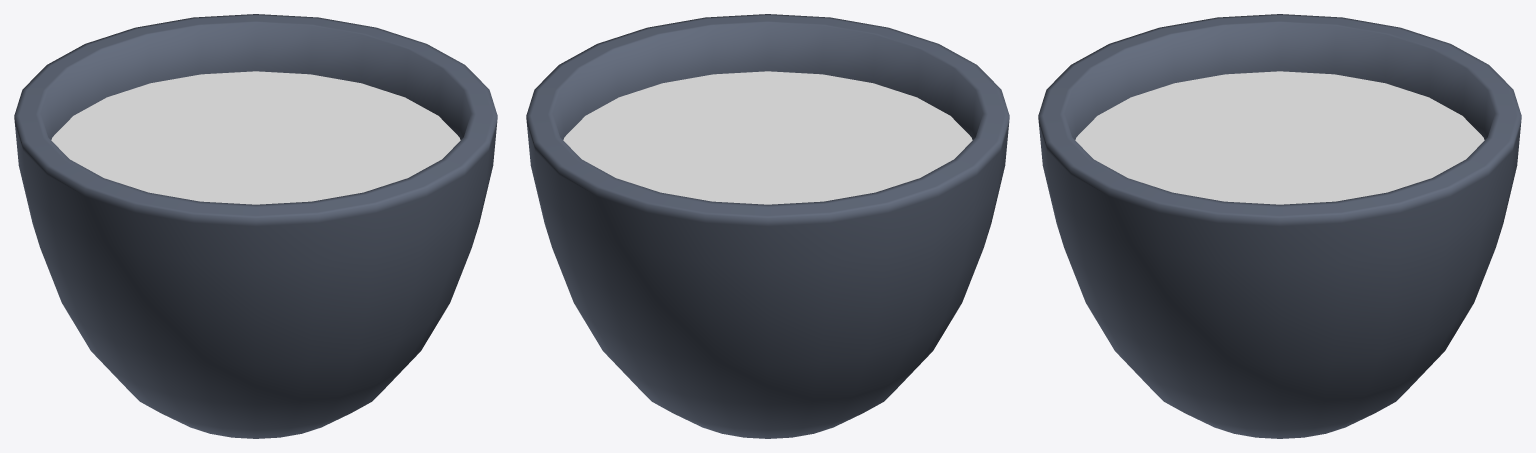
File: Gazan.fbx
The picture shows the model from 3 angles, left to right: view 1: azimuth 30°, elevation 25°; view 2: azimuth 150°, elevation 25°; view 3: azimuth 270°, elevation 25°; orthographic projection.
Visible parts, largest first — view 1: Sphere.001; view 2: Sphere.001; view 3: Sphere.001.
Boxes of the visible parts, x1,y1,x2,y2 form: Sphere.001: (14, 14, 497, 438); Sphere.001: (526, 14, 1009, 438); Sphere.001: (1038, 14, 1521, 438).
Bounding box in the file's own units: 2 × 1.38 × 2.
